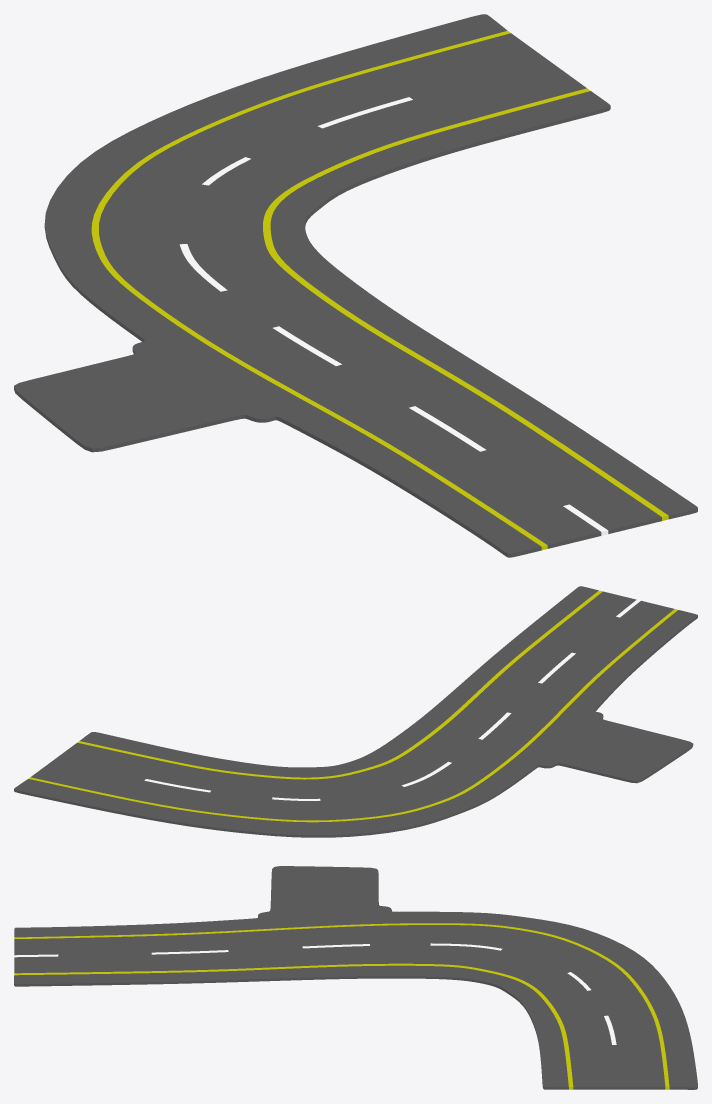
The model's file is object_12_lev1.glb.
3 views of the same model, one above another, from view 1: azimuth 30°, elevation 25°; view 2: azimuth 150°, elevation 25°; view 3: azimuth 270°, elevation 25° (orthographic). The views are drawn at different scales.
Parts seen in each view (by area): view 1: object_12_lev1; view 2: object_12_lev1; view 3: object_12_lev1.
Boxes of the visible parts, x1=… form: object_12_lev1: x1=14, y1=14, x2=697, y2=557; object_12_lev1: x1=14, y1=586, x2=697, y2=837; object_12_lev1: x1=14, y1=866, x2=697, y2=1089.
Size of the model in its own units: 7.49 by 0.037 by 9.78.
Materials: 1 (1 with a texture image).
